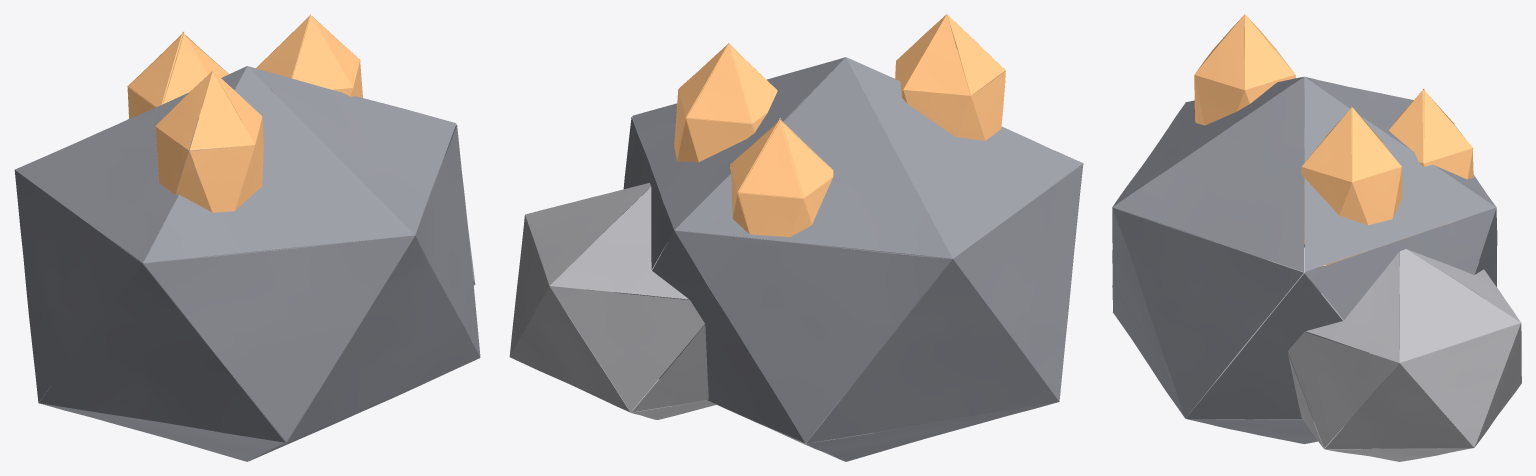
Rendered from iron_node.glb.
3 views of the same model, side by side, from view 1: azimuth 30°, elevation 25°; view 2: azimuth 150°, elevation 25°; view 3: azimuth 270°, elevation 25° (orthographic). The views are drawn at different scales.
Parts seen in each view (by area): view 1: IronNodeRock; view 2: IronNodeRock; view 3: IronNodeRock.
Boxes of the visible parts, box(x1,y1,x2,y2) form: IronNodeRock: box(14, 14, 480, 461); IronNodeRock: box(509, 14, 1083, 461); IronNodeRock: box(1112, 14, 1521, 461).
Size of the model in its own units: 0.8487 by 0.741 by 0.6882.
